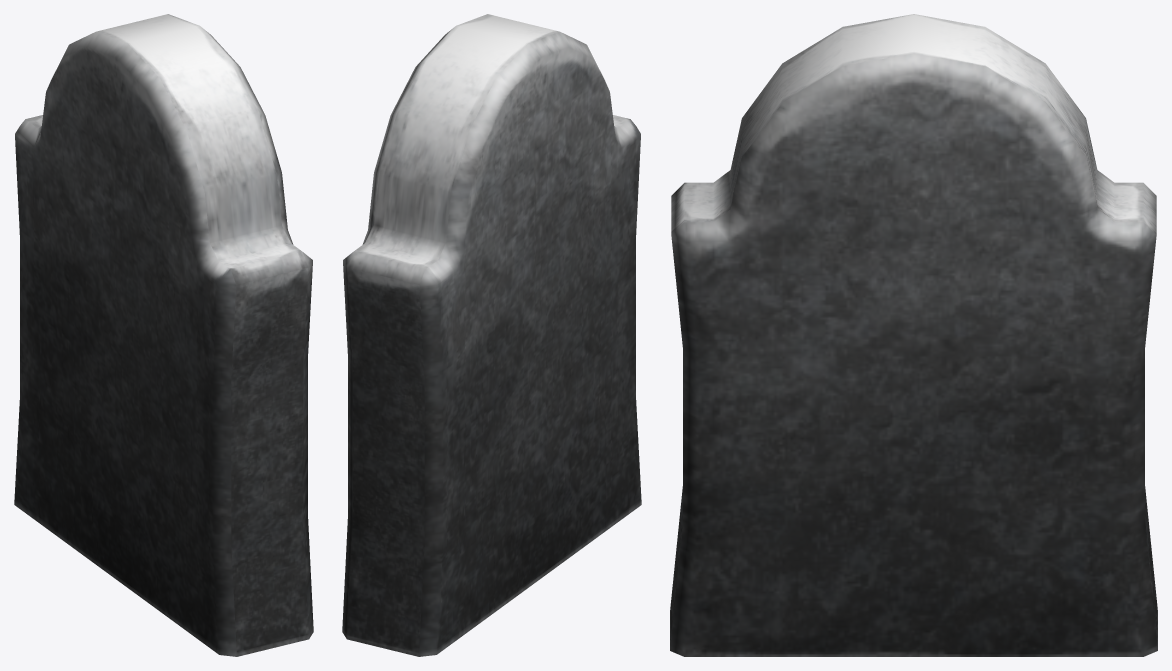
File: GraveStone_4.fbx
The picture shows the model from 3 angles, left to right: view 1: azimuth 30°, elevation 25°; view 2: azimuth 150°, elevation 25°; view 3: azimuth 270°, elevation 25°; orthographic projection. The views are drawn at different scales.
Parts seen in each view (by area): view 1: polySurface18; view 2: polySurface18; view 3: polySurface18.
Boxes of the visible parts, left/top/right/bottom form: polySurface18: left=14, top=14, right=313, bottom=656; polySurface18: left=342, top=14, right=641, bottom=656; polySurface18: left=670, top=14, right=1157, bottom=656.
Bounding box in the file's own units: 15.37 × 83 × 61.44.
